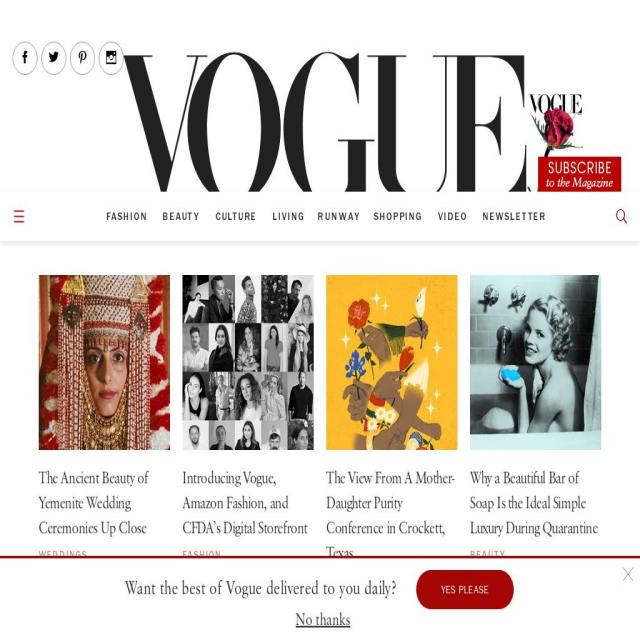button: (182, 275, 314, 450), (39, 275, 170, 450), (327, 275, 458, 450), (470, 275, 601, 450), (416, 570, 514, 609), (482, 192, 546, 242), (373, 192, 423, 242), (106, 192, 148, 242), (215, 192, 257, 242), (162, 192, 200, 242), (273, 192, 305, 242), (438, 192, 468, 242), (296, 611, 350, 630), (12, 42, 38, 75), (98, 42, 124, 75), (70, 42, 95, 75), (42, 42, 66, 75), (619, 562, 637, 588)
heading: (326, 468, 454, 564), (470, 468, 598, 540), (182, 468, 308, 540), (39, 468, 148, 540), (38, 548, 88, 562), (182, 548, 222, 562), (326, 573, 366, 587), (470, 548, 506, 562)
iframe: (528, 92, 583, 193), (538, 156, 621, 192), (17, 636, 623, 640)
image: (114, 52, 526, 204), (182, 275, 314, 450), (39, 275, 170, 450), (327, 275, 458, 450), (470, 275, 601, 450), (619, 562, 637, 586)
link: (317, 210, 361, 223)
text: (124, 579, 397, 600), (296, 611, 350, 630)
